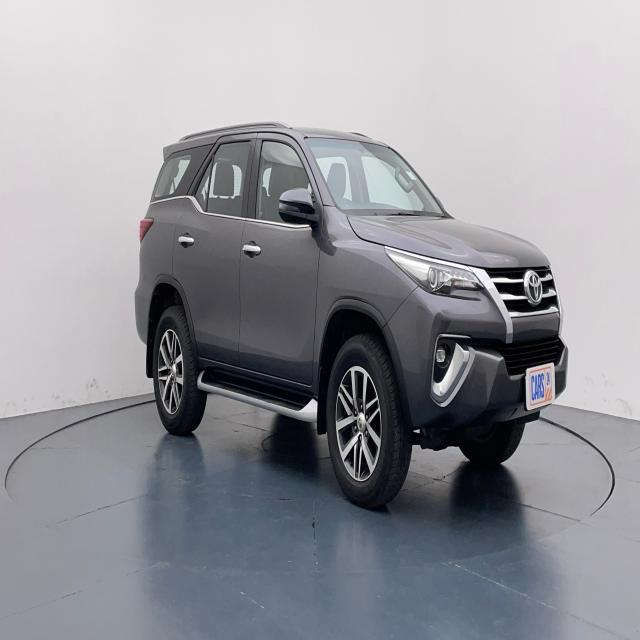light_vehicle: (134, 122, 568, 510)
